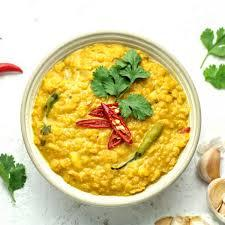Dhal Curry: (41, 51, 184, 194)
